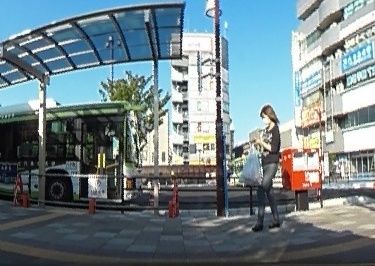person: (252, 102, 282, 232)
